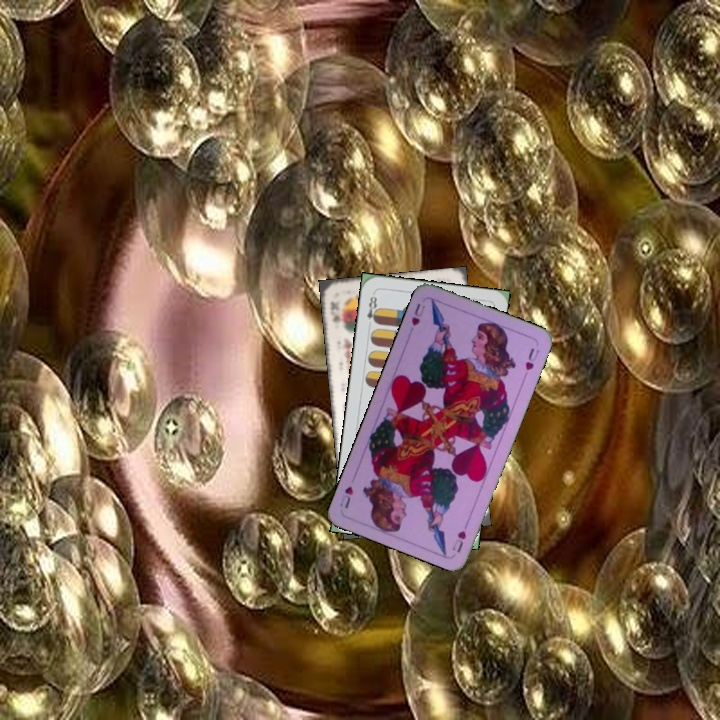E8: (363, 289, 381, 330)
HU: (448, 517, 471, 555), (407, 299, 428, 328)
SK: (326, 297, 342, 325)
